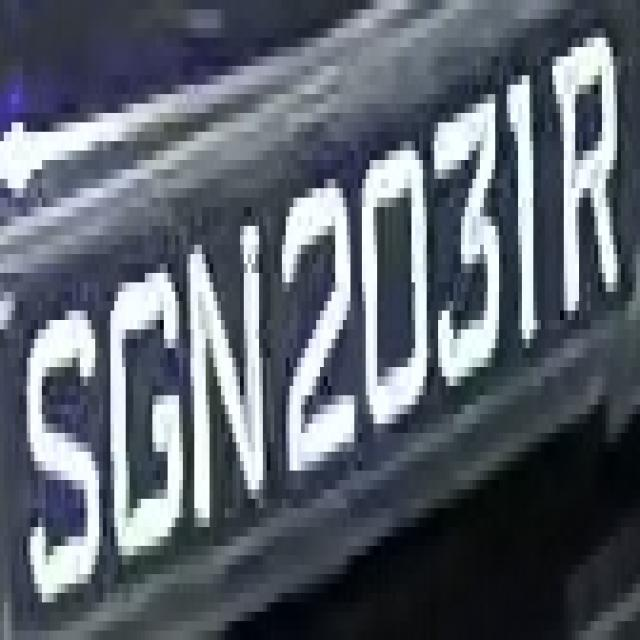0: (343, 103, 438, 433)
1: (496, 19, 552, 376)
2: (263, 141, 366, 527)
3: (419, 94, 507, 405)
G: (99, 226, 187, 565)
N: (176, 198, 274, 555)
R: (544, 28, 628, 367)
S: (23, 273, 103, 631)
